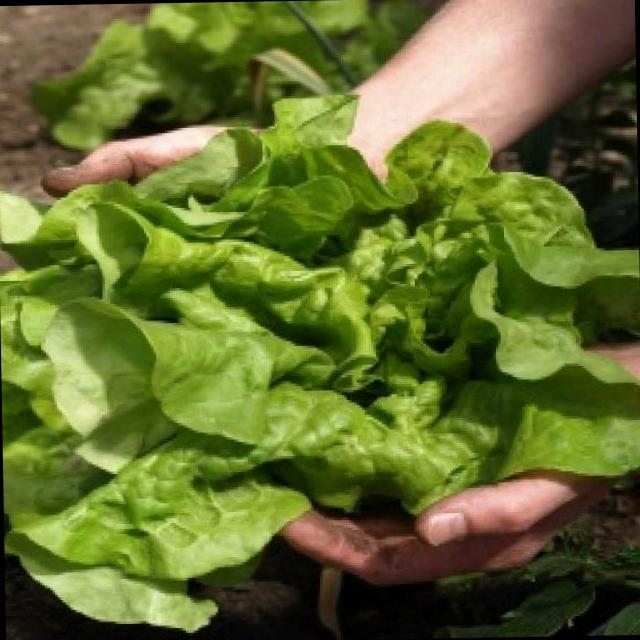Lettuce-Ready-to-Harvest: (0, 94, 640, 629), (31, 0, 441, 148)
